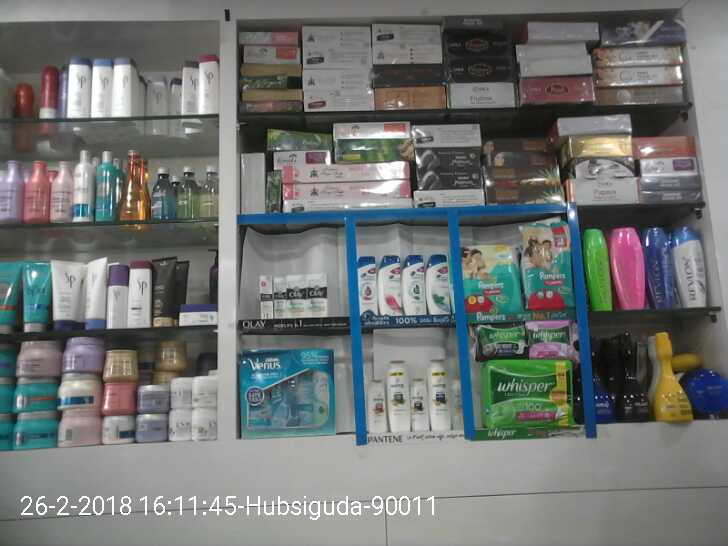venus: (241, 345, 336, 438)
